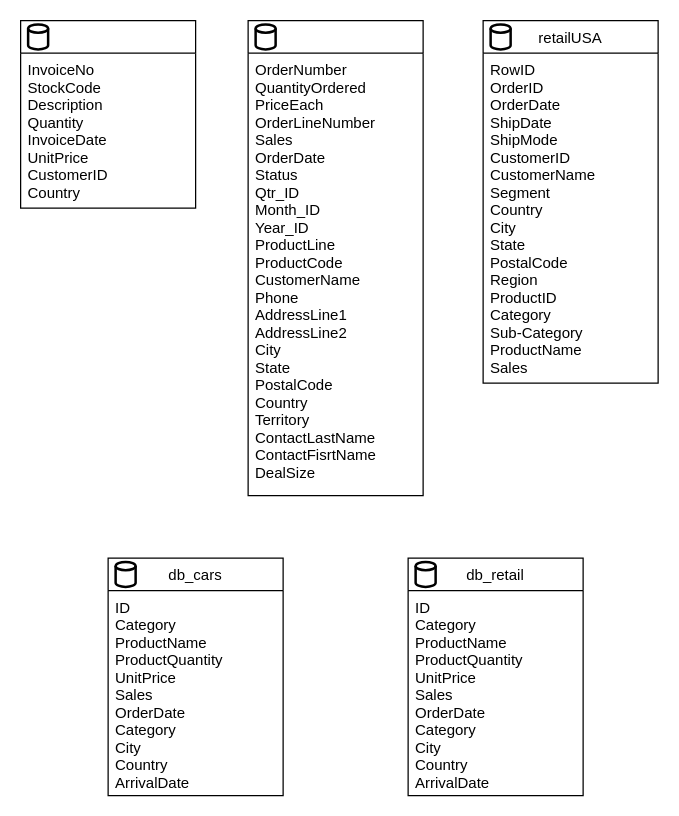
Image size: 679x816. Some labels were removed from this diagram. Each missing label, with the box of its shape:
carsWorldWide: (247, 19, 423, 496)
ukStore: (19, 19, 196, 208)
